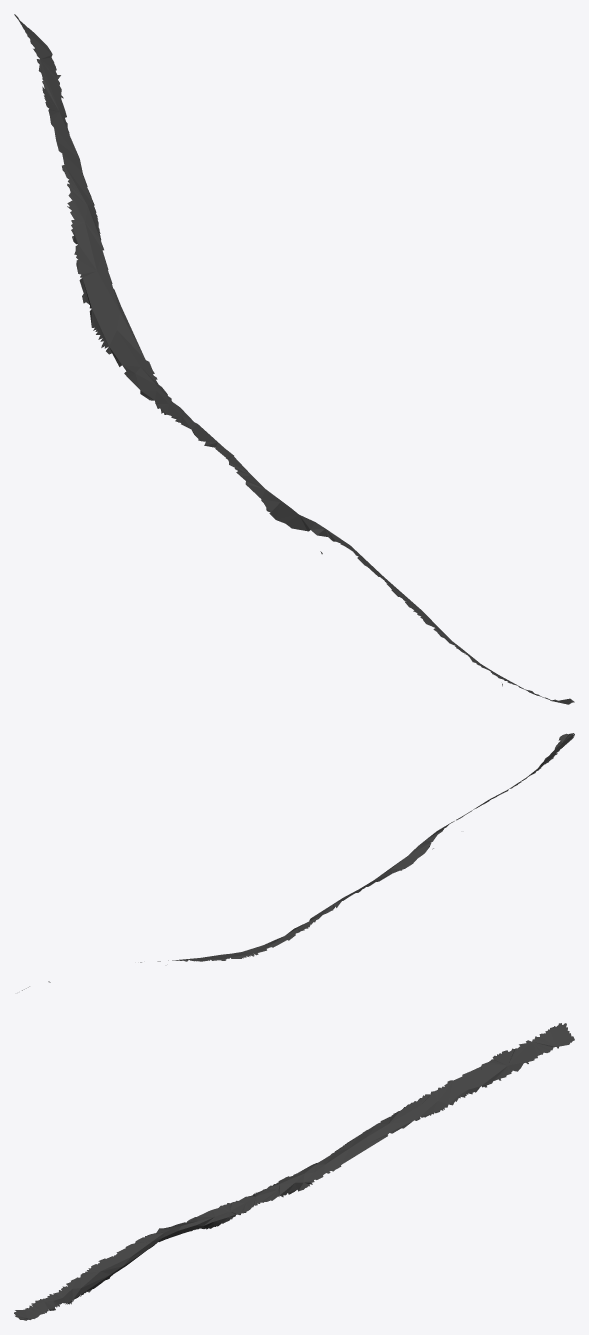
Rendered from vein_lat_palmar.glb.
The picture shows the model from 3 angles, top to bottom: view 1: azimuth 30°, elevation 25°; view 2: azimuth 150°, elevation 25°; view 3: azimuth 330°, elevation 25°; orthographic projection. The views are drawn at different scales.
Visible parts, largest first — view 1: vein_lat_palmar; view 2: vein_lat_palmar; view 3: vein_lat_palmar.
Boxes of the visible parts, x1=… form: vein_lat_palmar: x1=14, y1=14, x2=574, y2=704; vein_lat_palmar: x1=22, y1=733, x2=574, y2=990; vein_lat_palmar: x1=14, y1=1023, x2=574, y2=1320.
Size of the model in its own units: 0.0634 by 0.0256 by 0.3056.
1 material, 1 textured.
